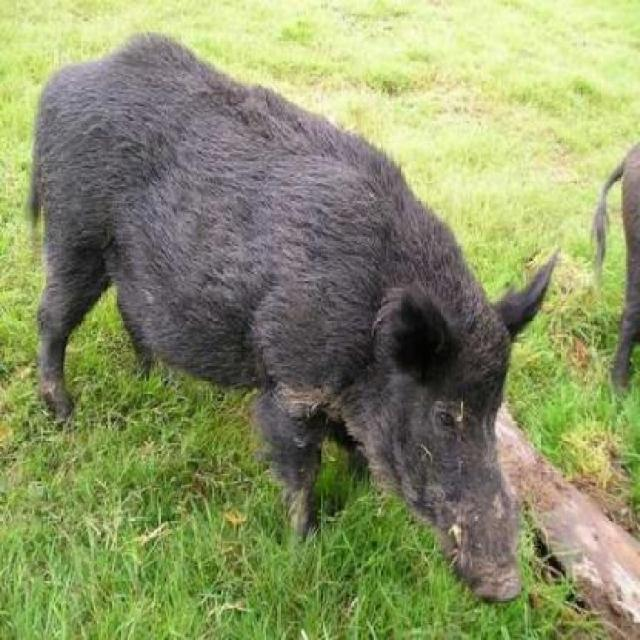pig: (2, 34, 566, 588)
